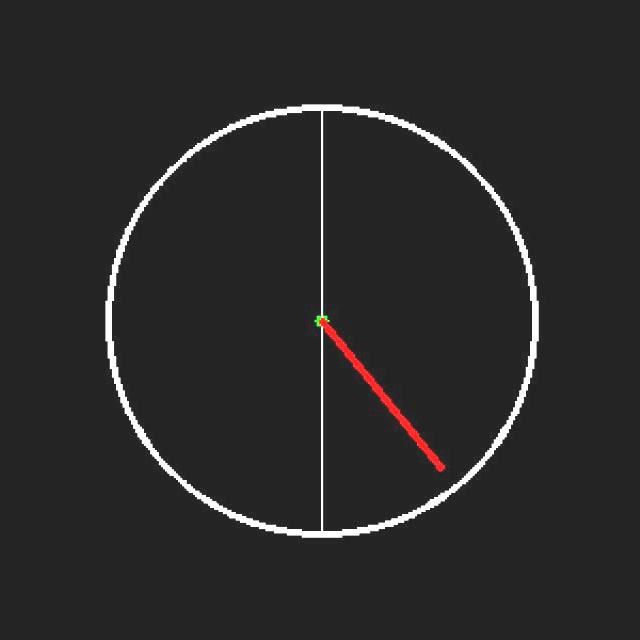Needle_Tip: (408, 431, 464, 495)
Needle_base: (292, 304, 354, 344)
